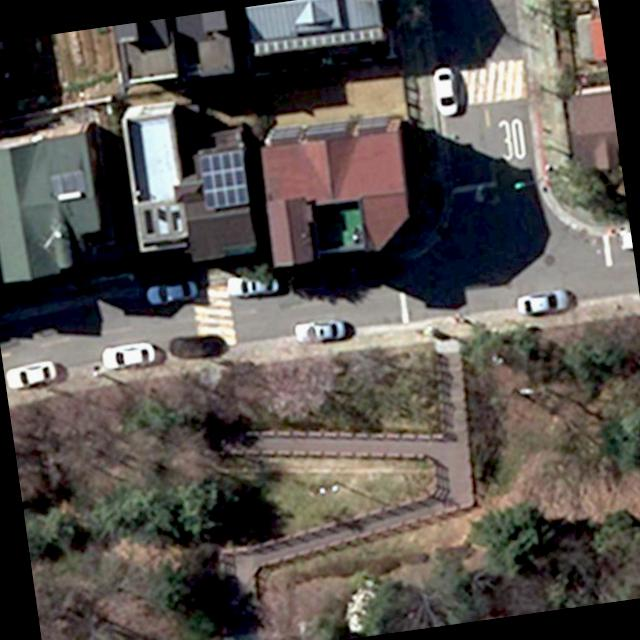solar: (196, 147, 254, 213)
